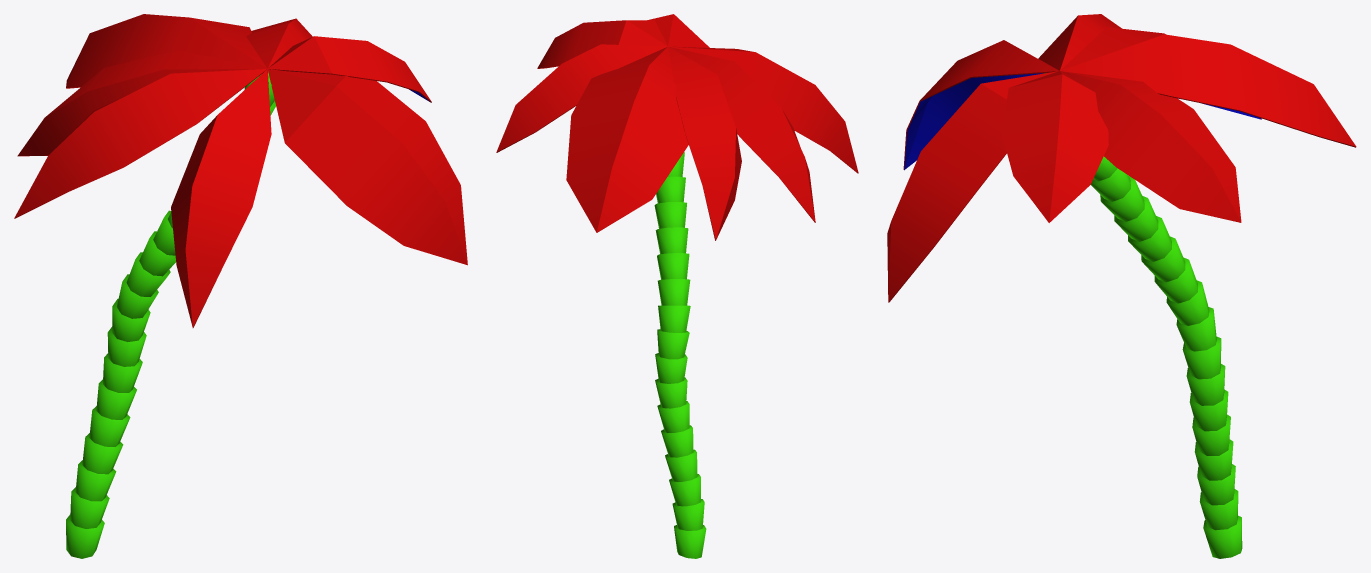
File: Palm_5_001.fbx
3 views of the same model, side by side, from view 1: azimuth 30°, elevation 25°; view 2: azimuth 150°, elevation 25°; view 3: azimuth 270°, elevation 25° (orthographic). The views are drawn at different scales.
Visible parts, largest first — view 1: Palm 5.001; view 2: Palm 5.001; view 3: Palm 5.001.
Boxes of the visible parts, left/top/right/bottom form: Palm 5.001: left=14, top=14, right=467, bottom=558; Palm 5.001: left=496, top=14, right=858, bottom=558; Palm 5.001: left=887, top=14, right=1356, bottom=558.
Size of the model in its own units: 7.09 by 9.78 by 7.42.
